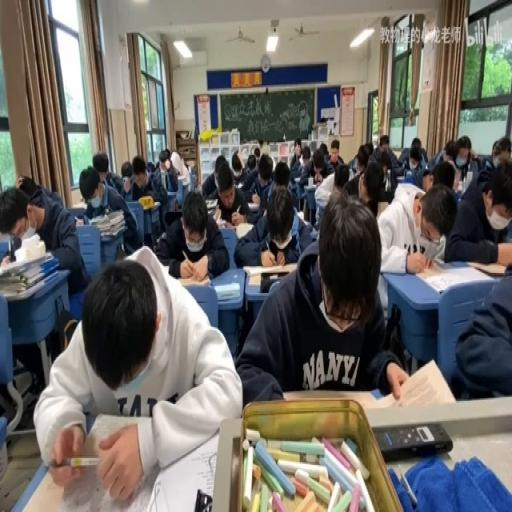calculator: (148, 428, 222, 511), (376, 356, 455, 406), (280, 386, 379, 410), (415, 263, 492, 293), (242, 263, 294, 280), (0, 223, 27, 243), (213, 282, 241, 300), (150, 256, 176, 274), (233, 219, 254, 240), (178, 273, 210, 286), (98, 220, 125, 234), (138, 196, 161, 209), (163, 186, 177, 204), (302, 181, 318, 196), (375, 198, 388, 216), (294, 208, 308, 224), (462, 168, 472, 190), (88, 213, 105, 225), (212, 205, 222, 222), (204, 196, 217, 209), (246, 202, 260, 210), (74, 214, 84, 224), (176, 174, 187, 182), (234, 181, 244, 189), (403, 168, 410, 178), (395, 174, 405, 180), (293, 174, 302, 180)
paper: (38, 246, 242, 499), (236, 194, 402, 410), (0, 176, 90, 322), (375, 176, 452, 314), (445, 158, 512, 263), (155, 186, 229, 280), (82, 160, 142, 254), (304, 154, 342, 223), (432, 135, 470, 186), (344, 152, 378, 198), (476, 135, 510, 178), (398, 135, 427, 181), (165, 148, 191, 190), (272, 158, 290, 188), (91, 151, 109, 179), (326, 138, 344, 165), (102, 170, 122, 194), (16, 175, 38, 196), (334, 162, 350, 189), (379, 148, 392, 179), (230, 151, 244, 176), (288, 137, 302, 162), (258, 163, 272, 185), (214, 154, 228, 174), (121, 160, 133, 178), (312, 159, 322, 178), (245, 154, 255, 172), (301, 160, 312, 176), (258, 138, 268, 155), (378, 135, 390, 149), (365, 141, 374, 159), (318, 142, 328, 158), (357, 151, 366, 168), (491, 148, 501, 163), (410, 148, 420, 161), (469, 148, 478, 161), (253, 145, 259, 162), (163, 148, 170, 161), (146, 160, 155, 170), (352, 158, 358, 173)
person: (374, 422, 451, 461), (193, 488, 212, 509)
